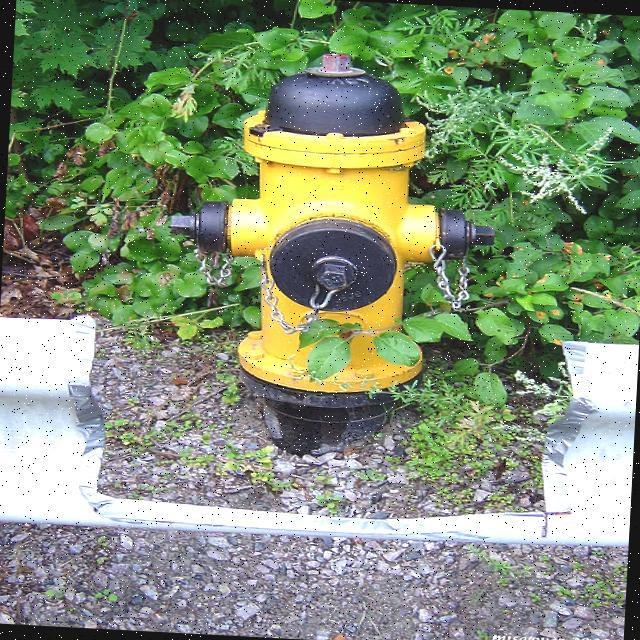fire_hydrant: (156, 43, 508, 470)
